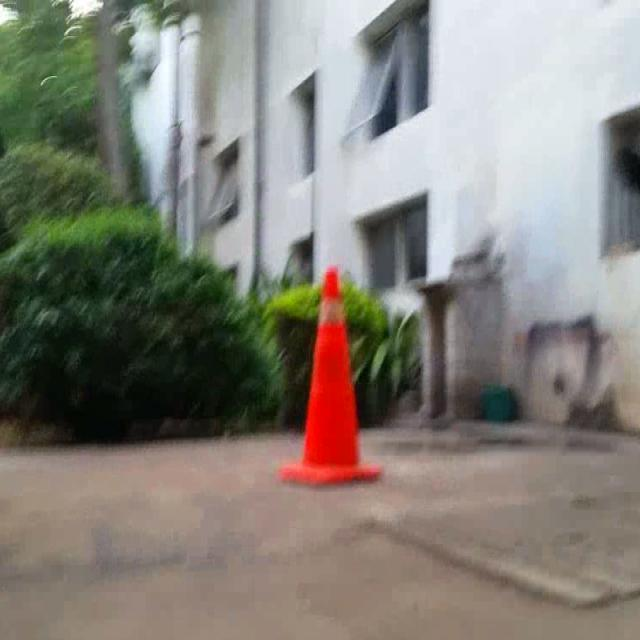cone: (281, 268, 382, 484)
